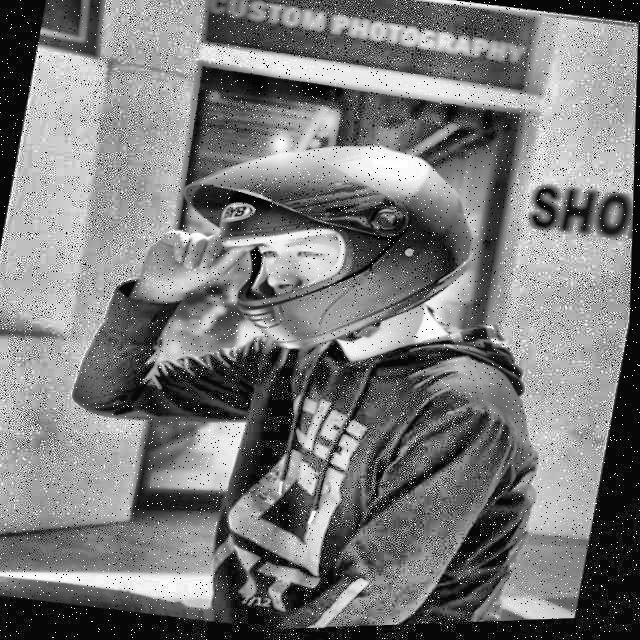Helmet: (152, 108, 505, 390)
